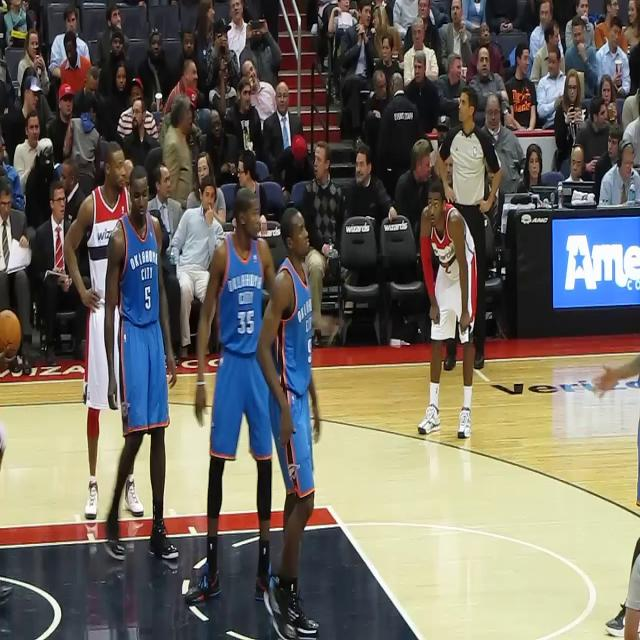ball: (0, 309, 22, 359)
